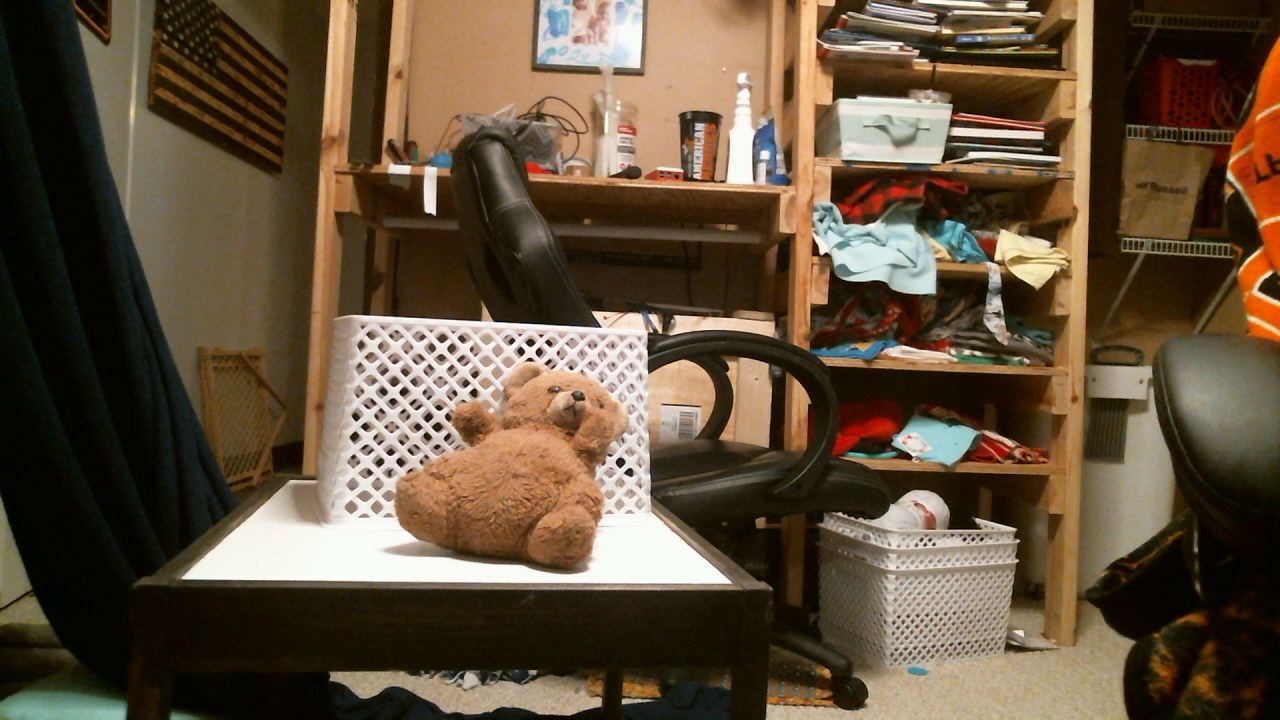Little_Mister_Bear: (537, 387, 609, 438)
